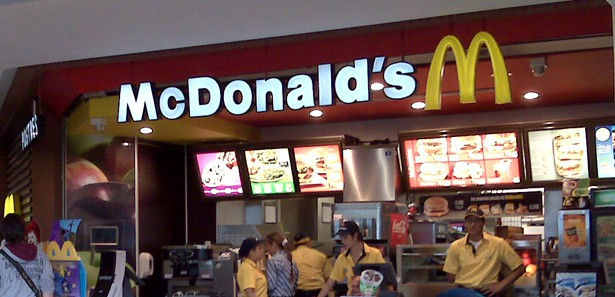mcdonalds: (422, 30, 516, 116)
